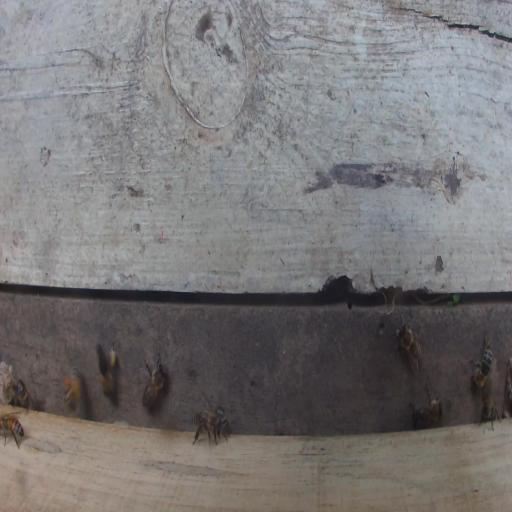bee: (393, 313, 422, 375), (193, 404, 229, 446), (411, 384, 443, 428), (96, 339, 118, 401), (141, 355, 166, 409), (469, 335, 492, 390), (62, 363, 81, 415), (1, 411, 25, 449), (479, 392, 500, 431), (13, 378, 33, 411)
